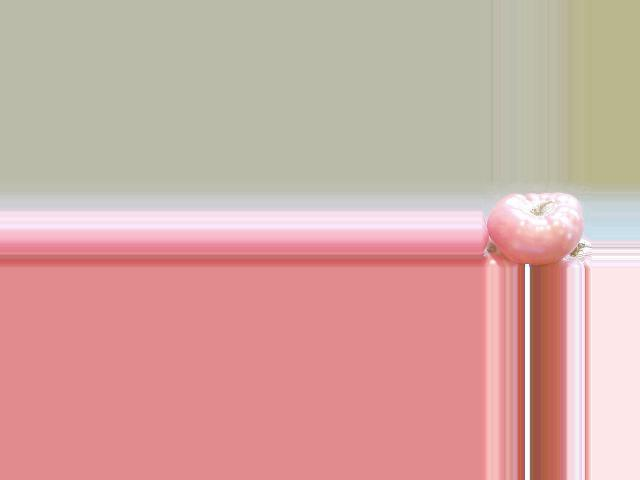tomato: (485, 192, 583, 264)
